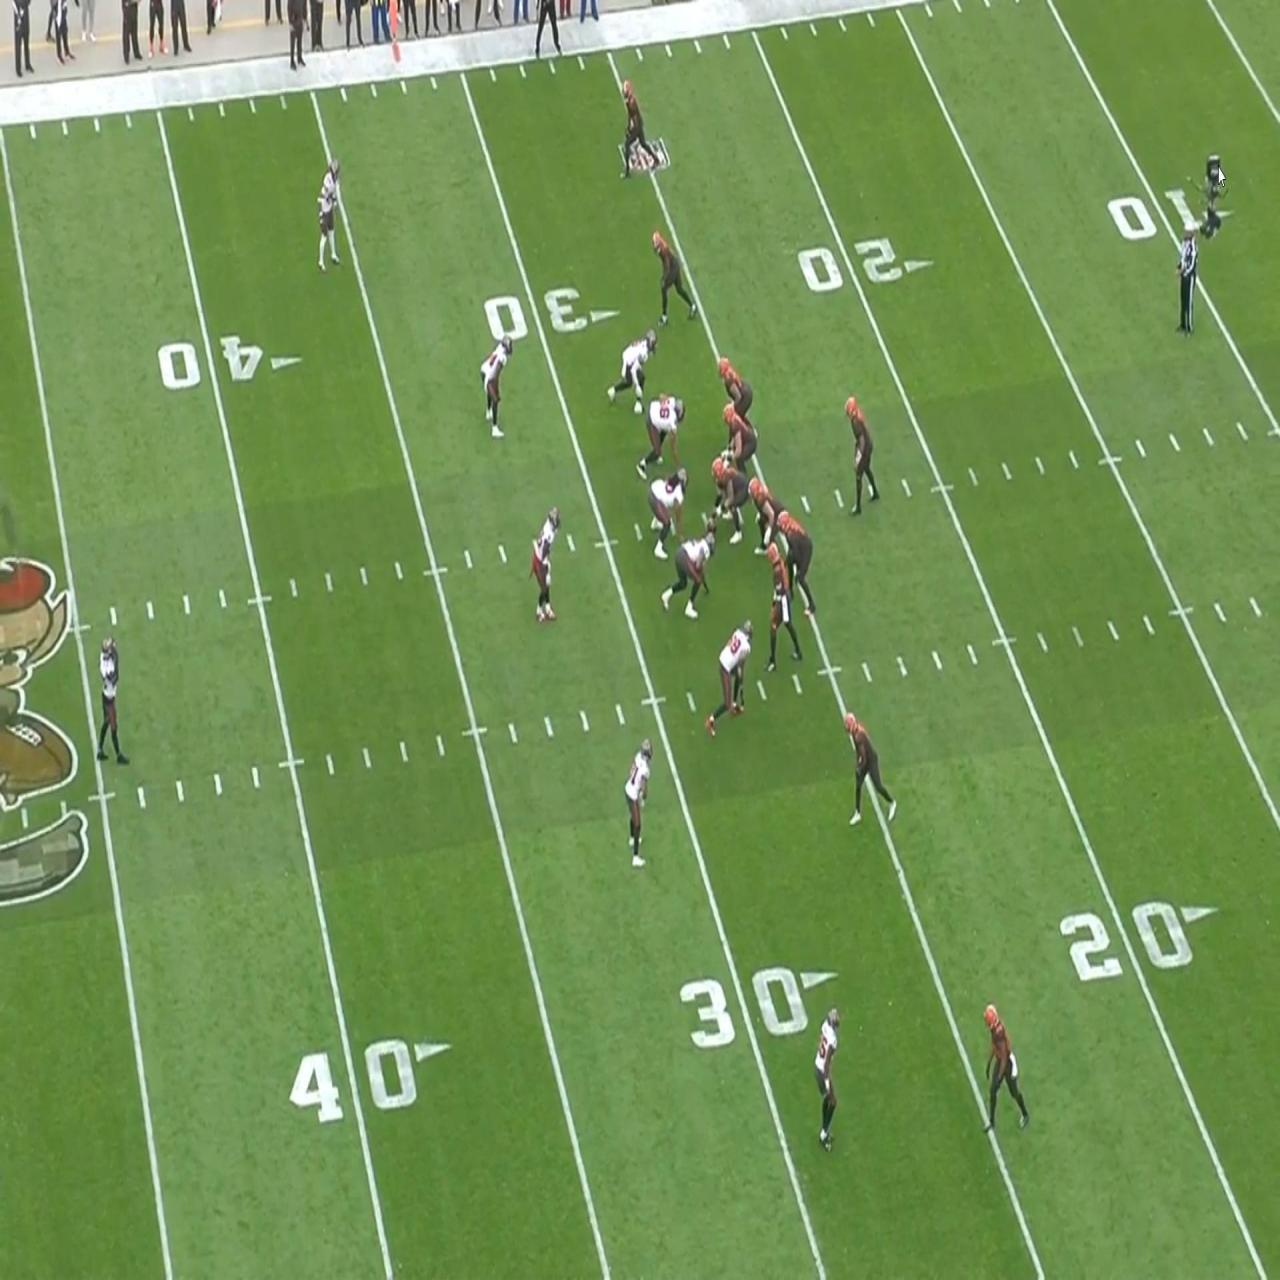10R: (1107, 186, 1239, 241)
20R: (1061, 898, 1221, 980), (795, 237, 935, 291)
30R: (679, 962, 840, 1051), (482, 286, 622, 340)
40R: (286, 1036, 452, 1122), (156, 332, 304, 392)
